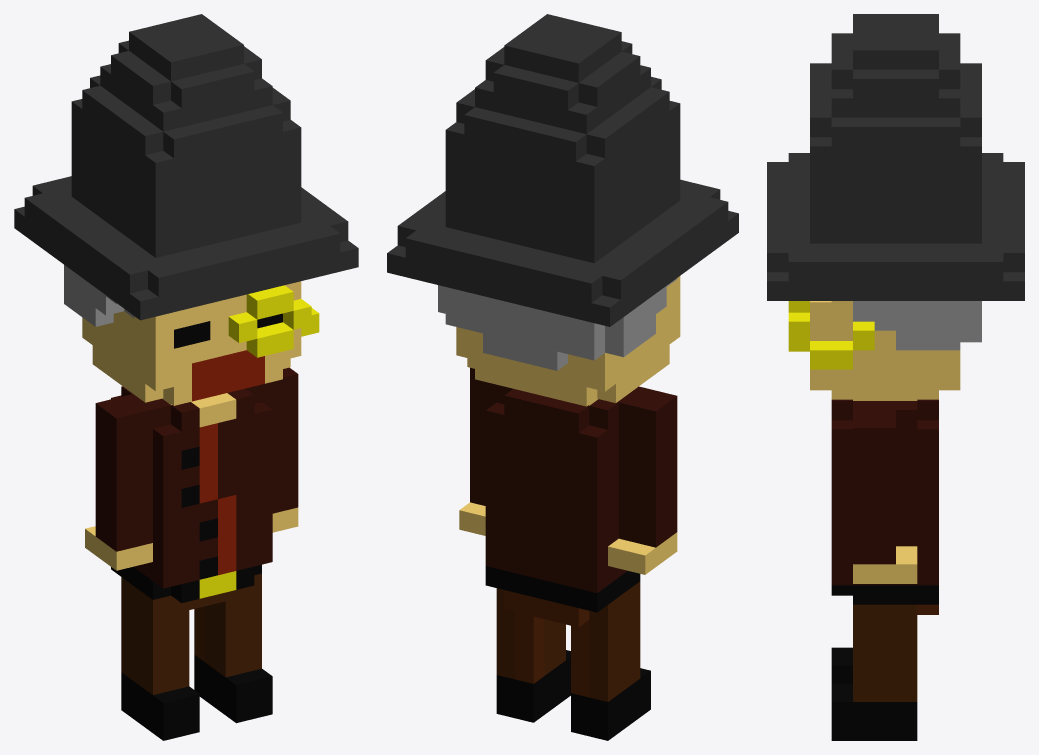
The model's file is Old Chap Mod.obj.
3 renders of one model, left to right at view 1: azimuth 30°, elevation 25°; view 2: azimuth 150°, elevation 25°; view 3: azimuth 270°, elevation 25°, orthographic. The views are drawn at different scales.
Bounding box in the file's own units: 1.2 × 3.5 × 1.2.
Materials: 1 (1 with a texture image).
